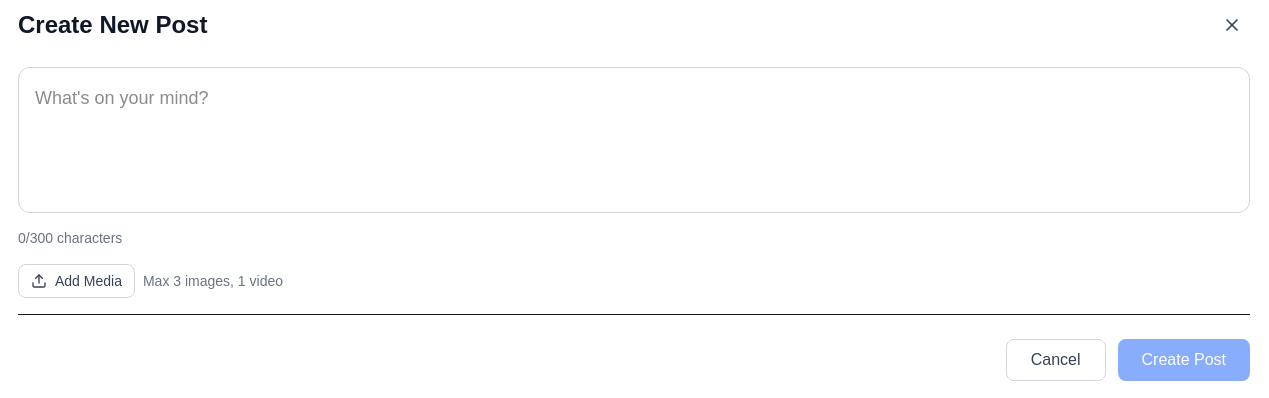
Test: PostForm › enables submit button when content is entered
This screenshot has width=1269, height=398.
Expected: the button "Create Post" is disabled, left=1118, top=339, right=1250, bottom=381
Type "Test post content" into the text box with placeholder "What's on your mind?" at coordinates (634, 140), box left=18, top=67, right=1250, bottom=213
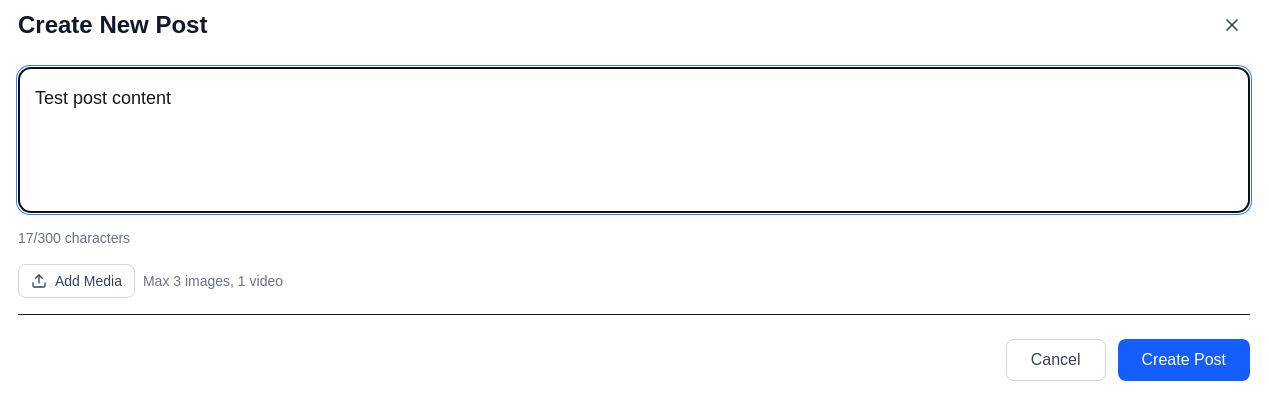
Expected: the button "Create Post" is enabled, left=1118, top=339, right=1250, bottom=381
